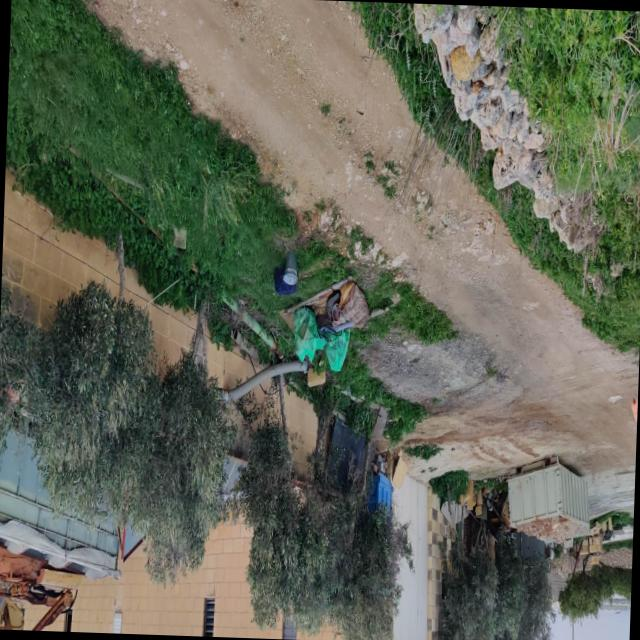Other litter: (317, 281, 370, 343)
Plastic bag - wrapper: (292, 304, 325, 363), (325, 328, 350, 371)
